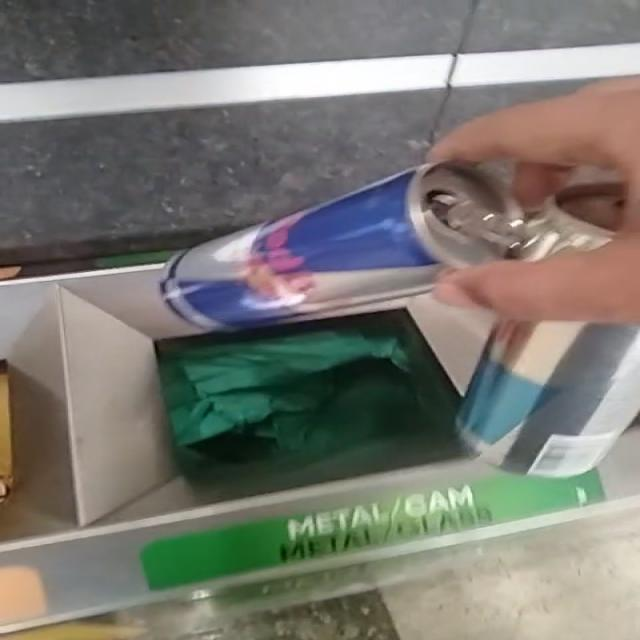bin: (1, 266, 609, 630)
metal: (161, 164, 612, 330)
